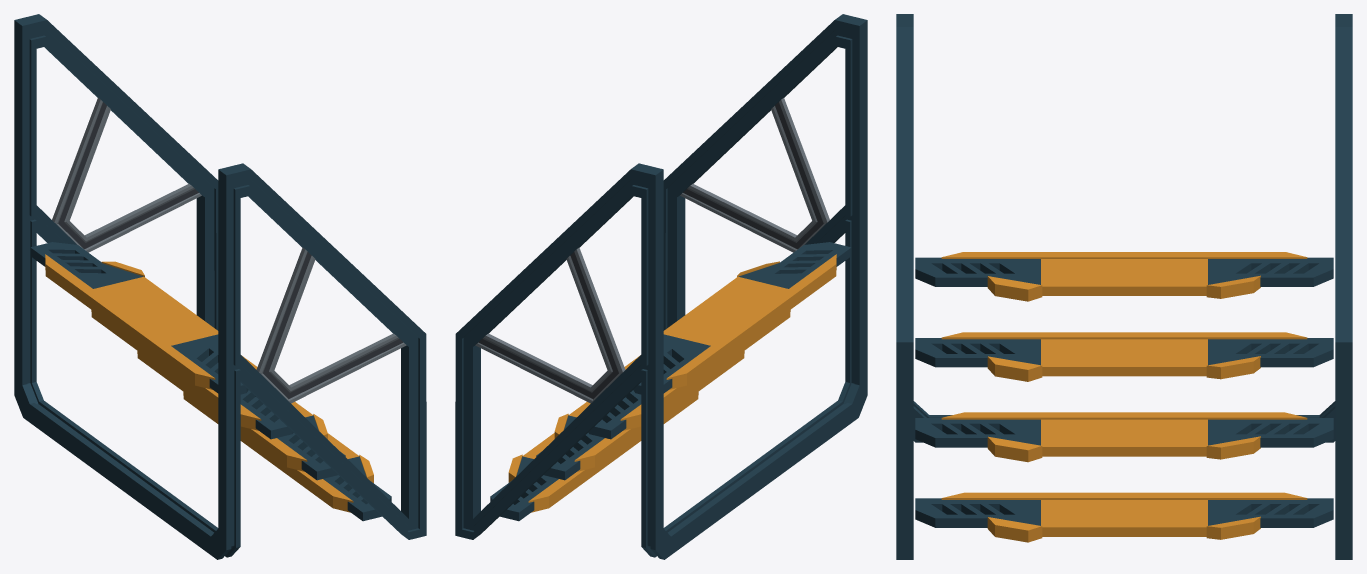
The model's file is SM_Stairs_1.glb.
3 renders of one model, left to right at view 1: azimuth 30°, elevation 25°; view 2: azimuth 150°, elevation 25°; view 3: azimuth 270°, elevation 25°, orthographic. The views are drawn at different scales.
Parts seen in each view (by area): view 1: SM_Stairs_1; view 2: SM_Stairs_1; view 3: SM_Stairs_1.
Part boxes in pixels (<box>): SM_Stairs_1: <box>14,14,426,559</box>; SM_Stairs_1: <box>455,14,867,559</box>; SM_Stairs_1: <box>896,14,1352,559</box>.
Bounding box in the file's own units: 1.21 × 2.32 × 2.18.
1 material, 1 textured.
